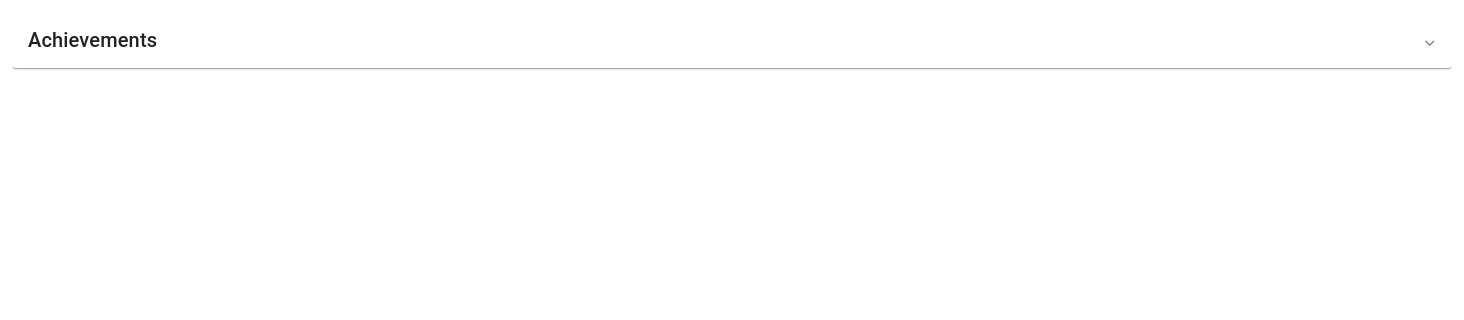
Test case: deletion requires confirmation and removes the achievement inline
The width and height of the screenshot is (1464, 320).
Later steps or results of the test are not shown.
Click the button "Achievements ⌄".
click(93, 40)  # box top-left (12, 12), bottom-right (1452, 68)
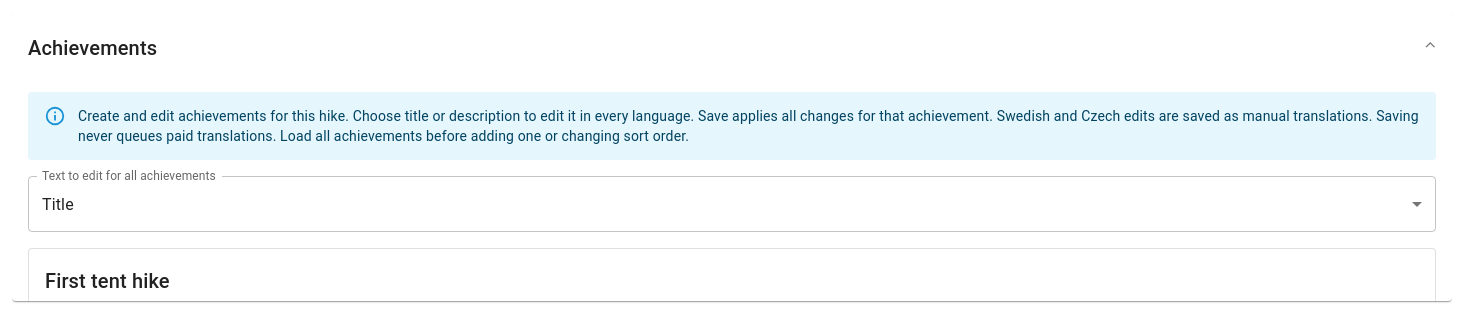
Now the heading "First tent hike" is shown, box top-left (45, 269), bottom-right (170, 293)
